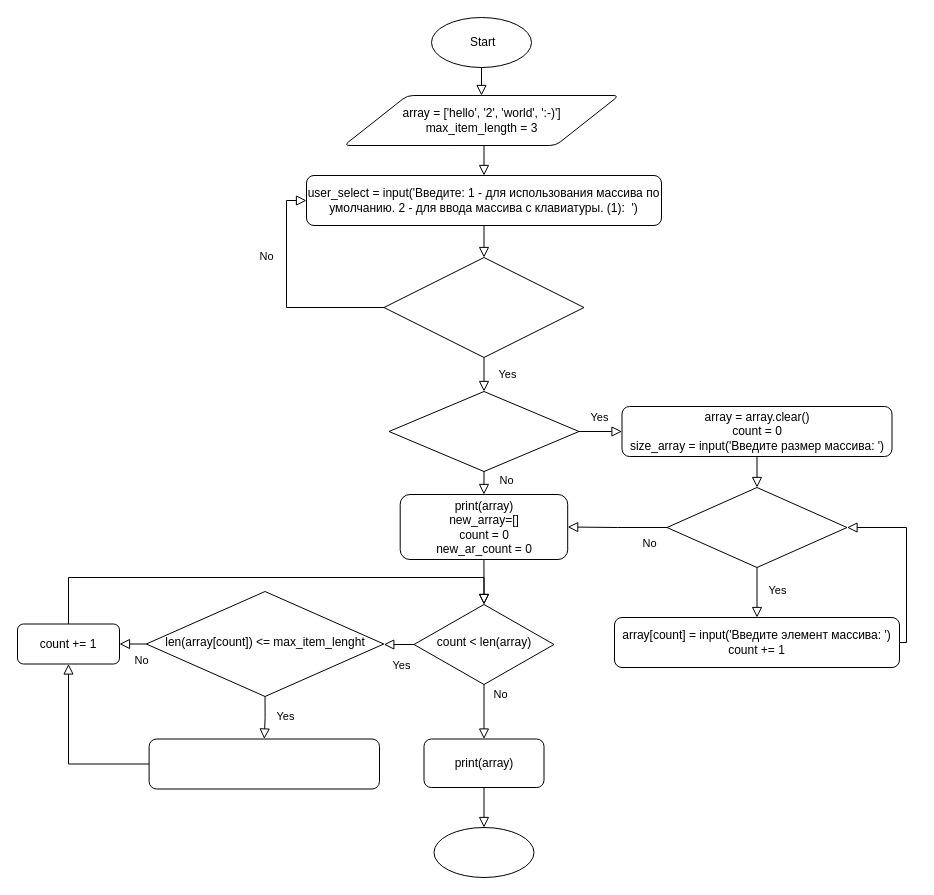
Image size: 934x895. Some labels were removed from this diagram. The shapes that lost their labels are listed below. From the top down, each one's box as (x1, y1, x2, y2) in pixels, then its label:
(383, 256, 584, 358): if user_selec == 1 or user_selec == 2 or user_selec == ''
(388, 390, 579, 472): if user_select == 2
(666, 486, 847, 568): if count < size_array
(148, 738, 380, 789): new_array[new_ar_count] = array[count] new_ar_count += 1
(433, 826, 534, 878): Stop
